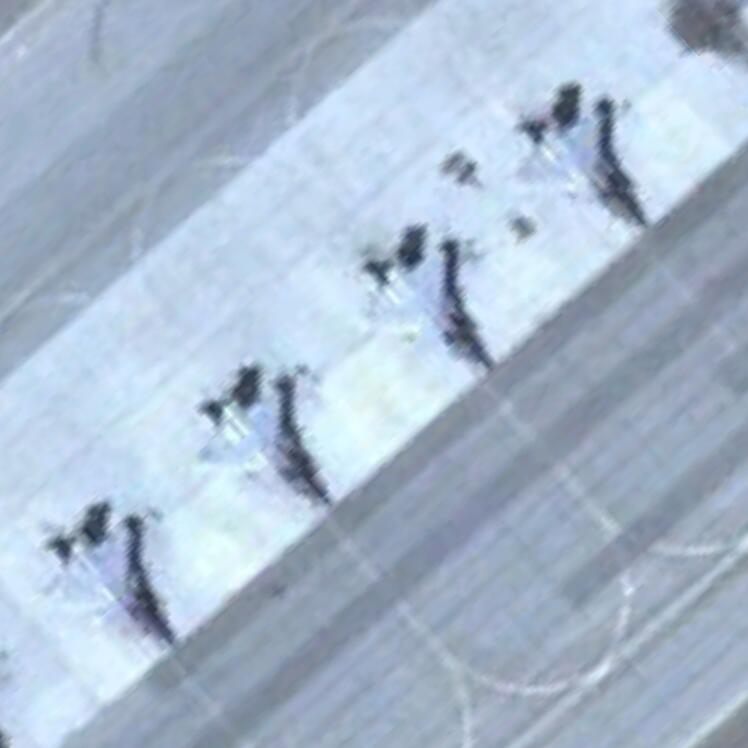A15: (37, 506, 174, 654), (349, 236, 493, 374), (193, 369, 331, 513), (505, 91, 644, 226)
